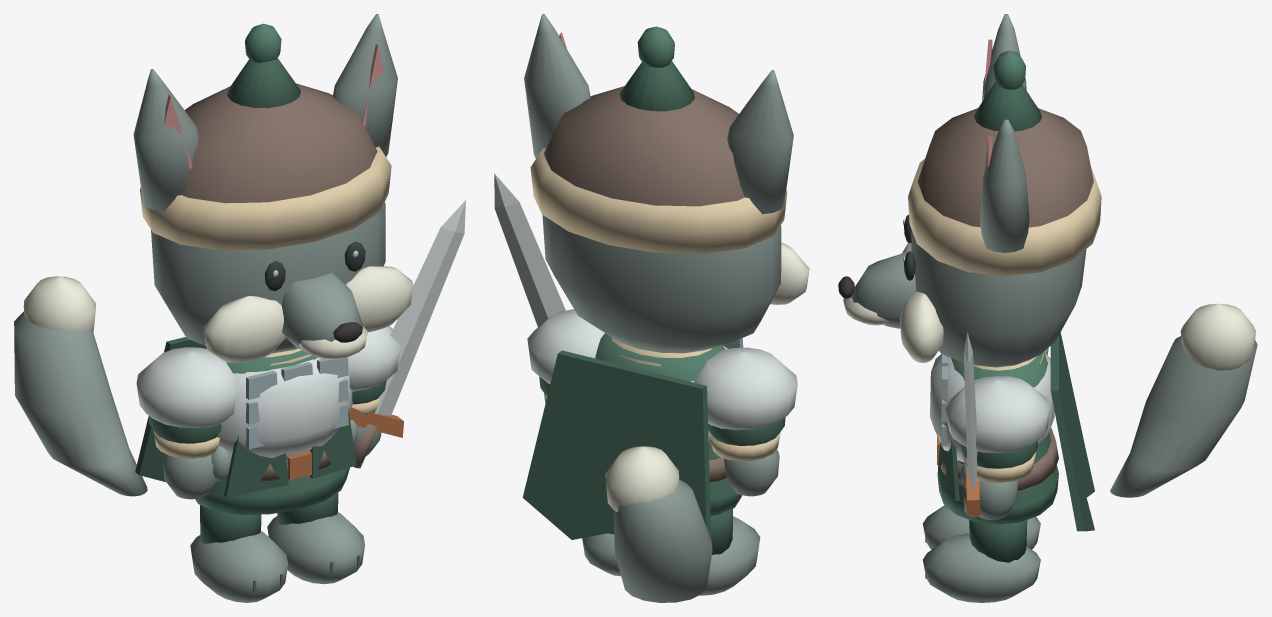
The model's file is knight.glb.
3 renders of one model, left to right at view 1: azimuth 30°, elevation 25°; view 2: azimuth 150°, elevation 25°; view 3: azimuth 270°, elevation 25°, orthographic. The views are drawn at different scales.
Parts seen in each view (by area): view 1: Regional helmet, Plush sweeping tail, Animal cheek head, Fur hat brim, Rounded breastplate, Big shoulder armour, Tall animal ear, Soft animal paw, Shaped bevel sword, Soft animal paw.001, Tall animal ear.001, Short folded tunic (+19 smaller); view 2: Short scalloped cape, Animal cheek head, Regional helmet, Fur hat brim, Plush sweeping tail, Big shoulder armour, Tall animal ear, Tall animal ear.001, Shaped bevel sword, Tail pale tip, Short folded tunic, Big shoulder armour.001 (+10 smaller); view 3: Animal cheek head, Regional helmet, Plush sweeping tail, Fur hat brim, Big shoulder armour.001, Soft animal paw.001, Tall animal ear.001, Short scalloped cape, Tail pale tip, Short folded tunic, Long pointed muzzle, Light cheek fluff.001 (+13 smaller).
Boxes of the visible parts, x1,y1,x2,y2 form: Regional helmet: [182, 83, 377, 203]; Plush sweeping tail: [14, 311, 147, 496]; Animal cheek head: [151, 202, 385, 353]; Fur hat brim: [140, 146, 391, 250]; Rounded breastplate: [216, 358, 352, 457]; Big shoulder armour: [136, 347, 237, 428]; Tall animal ear: [133, 69, 198, 211]; Soft animal paw: [190, 531, 287, 602]; Shaped bevel sword: [374, 200, 465, 415]; Soft animal paw.001: [267, 512, 364, 584]; Tall animal ear.001: [332, 14, 397, 156]; Short folded tunic: [195, 350, 349, 514]; Short scalloped cape: [522, 350, 711, 539]; Animal cheek head: [542, 215, 781, 353]; Regional helmet: [544, 86, 744, 206]; Fur hat brim: [530, 148, 787, 253]; Plush sweeping tail: [613, 479, 712, 602]; Big shoulder armour: [694, 347, 797, 430]; Tall animal ear: [727, 70, 793, 214]; Tall animal ear.001: [524, 14, 590, 158]; Shaped bevel sword: [494, 173, 565, 326]; Tail pale tip: [605, 446, 679, 511]; Short folded tunic: [595, 333, 741, 515]; Big shoulder armour.001: [527, 309, 604, 383]; Animal cheek head: [911, 230, 1086, 367]; Regional helmet: [917, 108, 1093, 227]; Plush sweeping tail: [1110, 336, 1257, 497]; Fur hat brim: [908, 158, 1101, 276]; Big shoulder armour.001: [945, 376, 1050, 453]; Soft animal paw.001: [923, 533, 1040, 602]; Tall animal ear.001: [980, 119, 1029, 252]; Short scalloped cape: [1050, 332, 1094, 531]; Tail pale tip: [1180, 303, 1255, 370]; Short folded tunic: [937, 352, 1058, 524]; Long pointed muzzle: [850, 251, 915, 328]; Light cheek fluff.001: [899, 291, 943, 362].
Bounding box in the file's own units: 1.1 × 1.78 × 1.28.
